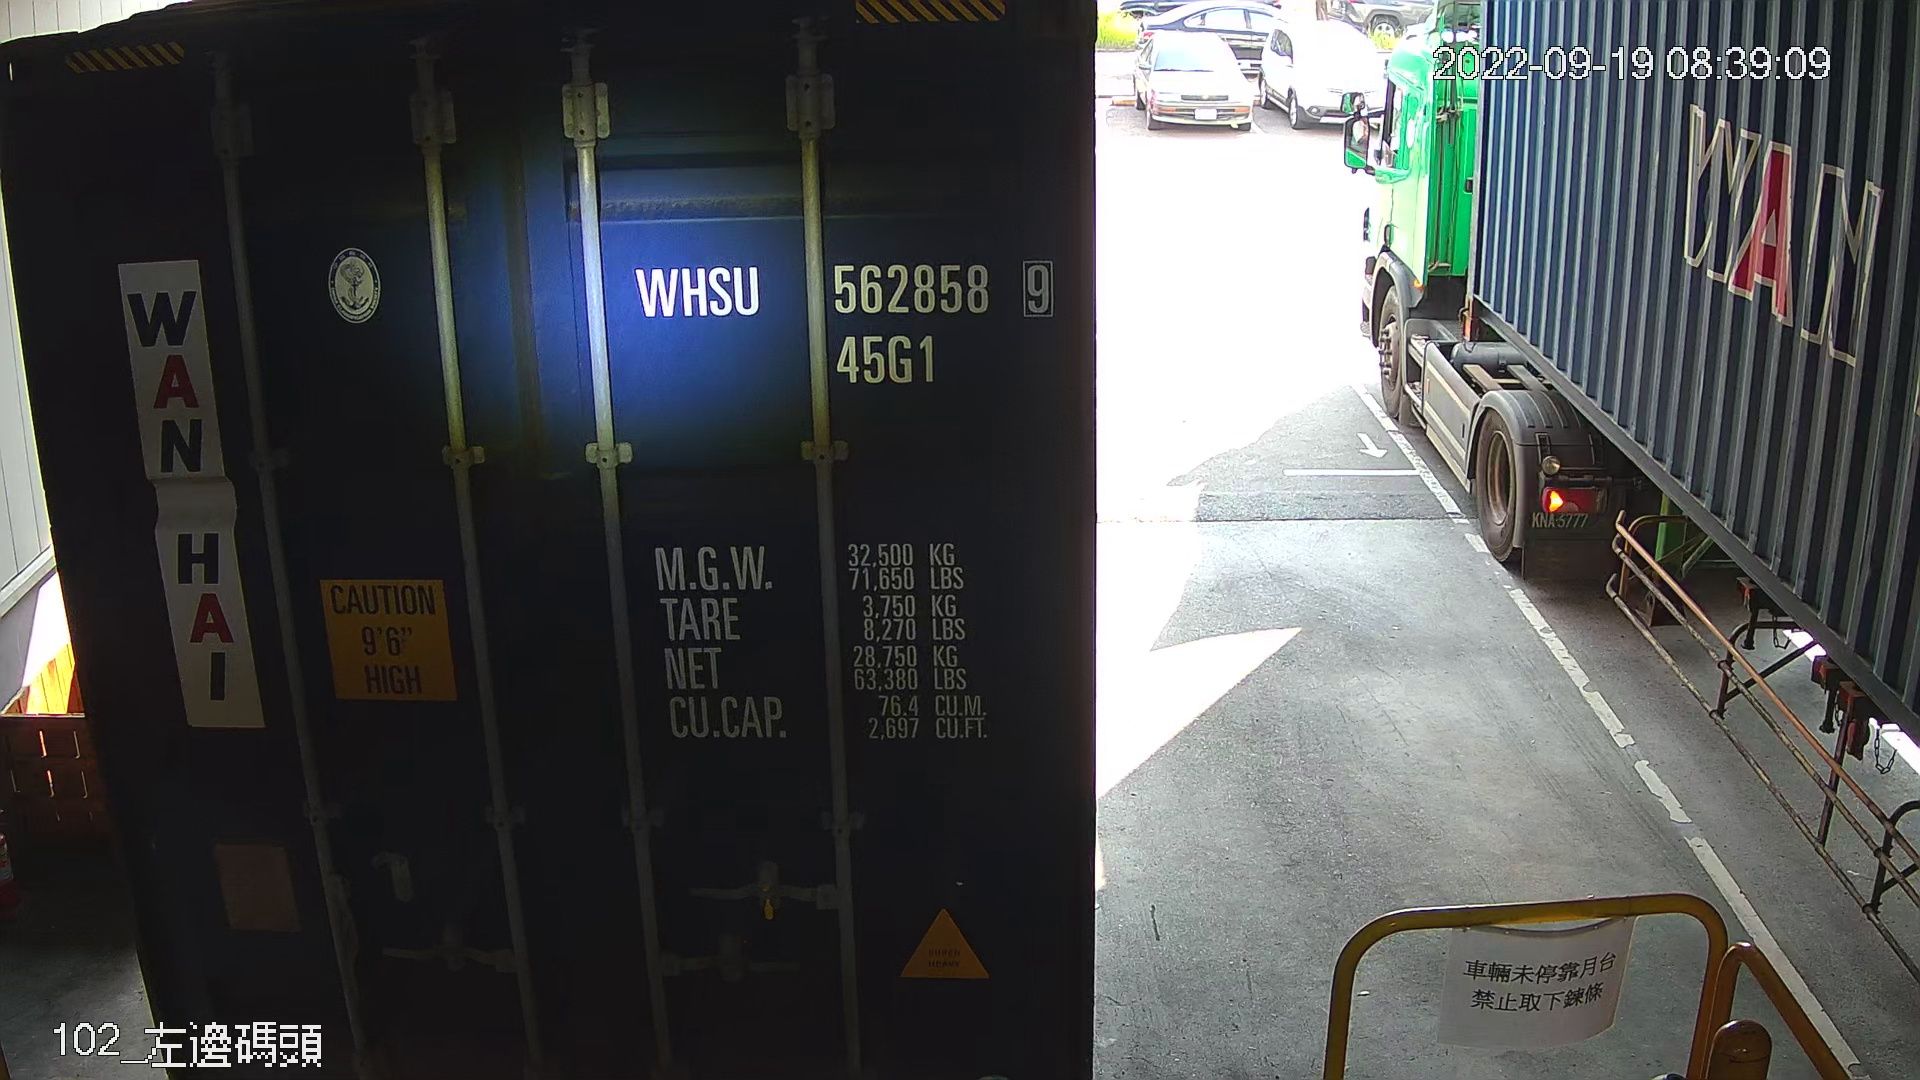container: (613, 241, 1069, 400)
